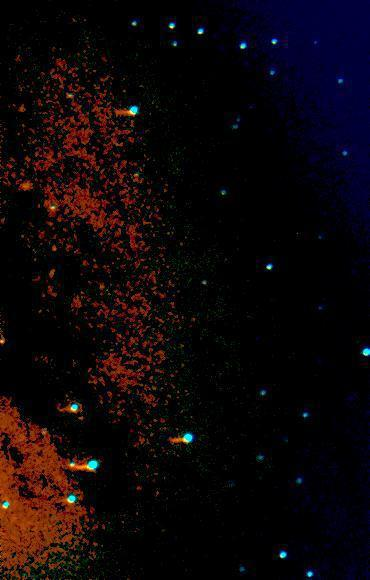star: (13, 173, 43, 203)
